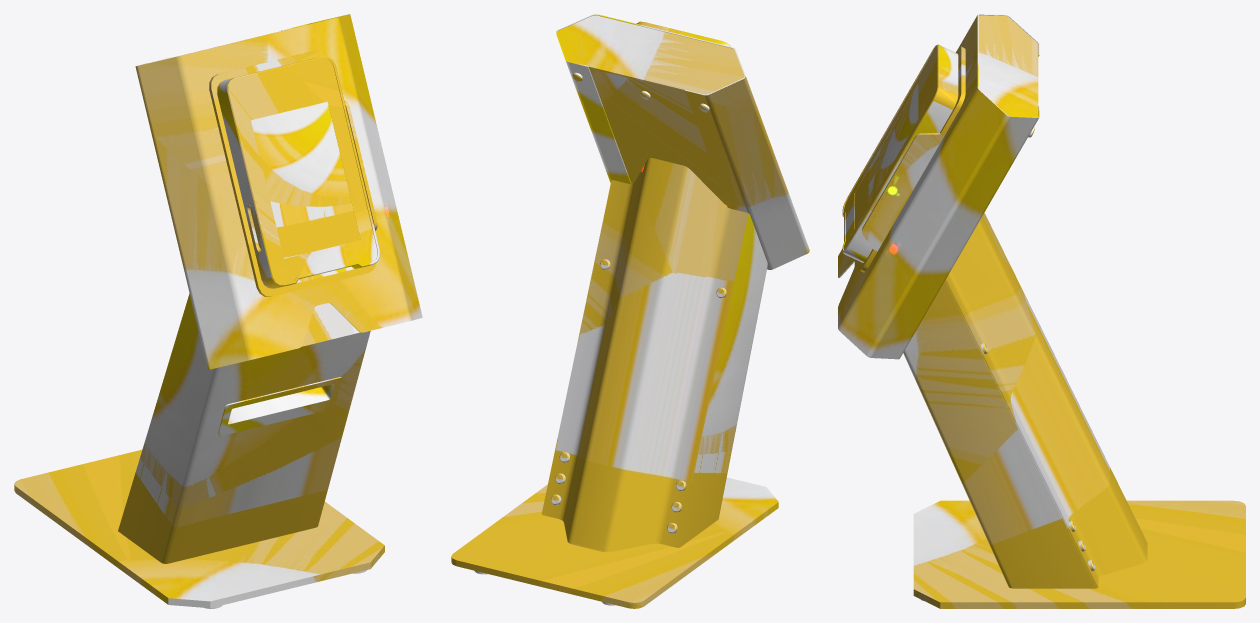
The model's file is kiosk.fbx.
The picture shows the model from 3 angles, left to right: view 1: azimuth 30°, elevation 25°; view 2: azimuth 150°, elevation 25°; view 3: azimuth 270°, elevation 25°; orthographic projection. The views are drawn at different scales.
Visible parts, largest first — view 1: Pico_Pay_Bill; view 2: Pico_Pay_Bill; view 3: Pico_Pay_Bill.
Part boxes in pixels (x1,y1,x2,y2): Pico_Pay_Bill: (14, 14, 422, 608); Pico_Pay_Bill: (451, 14, 809, 608); Pico_Pay_Bill: (838, 14, 1245, 608).
Size of the model in its own units: 2004 by 4703 by 3397.
